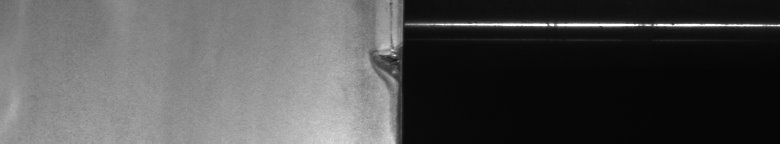hb: (358, 4, 392, 128)
